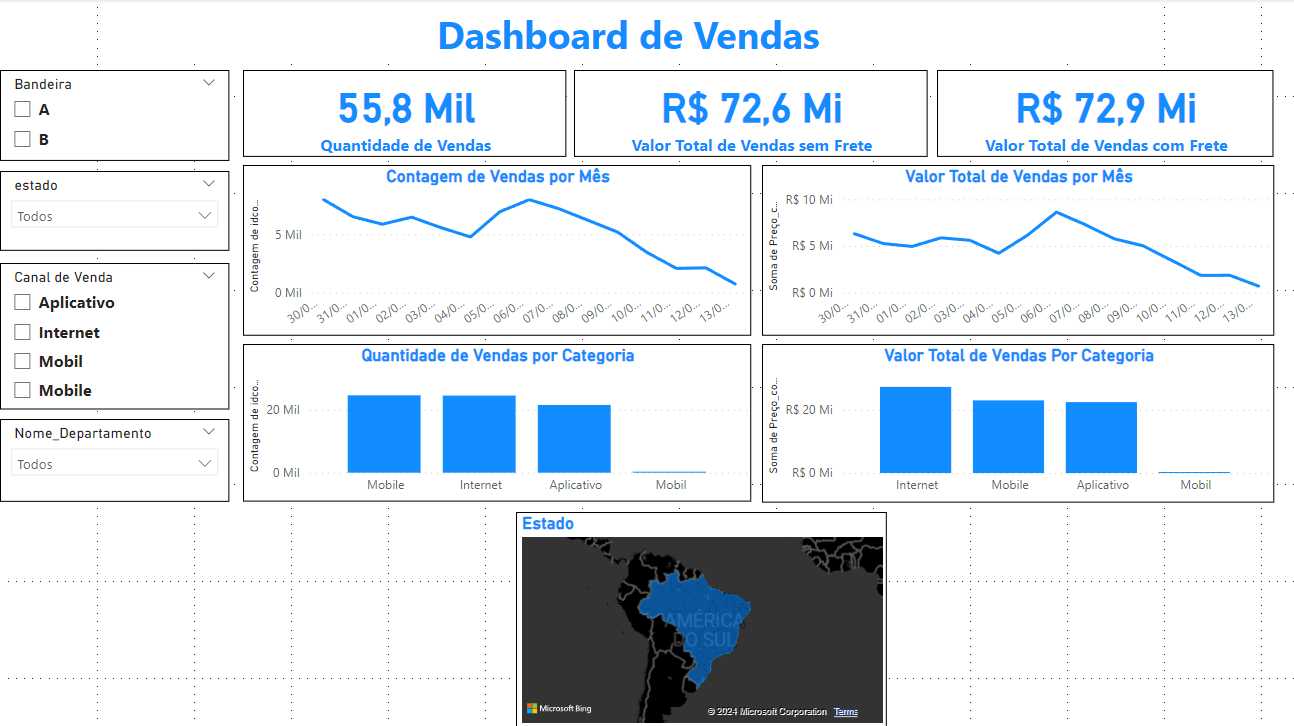

The dashboard page shown, as its layout file describes it:
{"tool":"powerbi","page":{"name":"Visão Clientes","canvas":[1280,720],"ordinal":0},"visuals":[{"type":"card","title":"Quantidade de Vendas","fields":{"Values":["Count(base compra.idcompra)"]},"box":[240,70.7,319.7,86],"z":0},{"type":"card","fields":{"Values":["Sum(base compra.Preço)"]},"box":[567.8,70.7,350.1,86],"z":1000},{"type":"card","fields":{"Values":["Sum(base compra.Preço_com_frete)"]},"box":[927.8,70.7,333.1,86],"z":2000},{"type":"lineChart","title":"Contagem de Vendas por Mês","fields":{"Y":["CountNonNull(base compra.idcompra)"],"Category":["base compra.Data"]},"box":[240.5,164.3,502.8,169.2],"z":3000},{"type":"lineChart","title":"Valor Total de Vendas por Mês","fields":{"Y":["Count(base compra.Preço_com_frete)"],"Category":["base compra.Data"]},"box":[754,164.8,506.9,169.3],"z":4000},{"type":"columnChart","title":"Valor Total de Vendas Por Categoria","fields":{"Category":["base compra.idcanalvenda"],"Y":["Sum(base compra.Preço_com_frete)"]},"box":[754,341.2,506.9,156.7],"z":5000},{"type":"columnChart","title":"Quantidade de Vendas por Categoria","fields":{"Category":["base compra.idcanalvenda"],"Y":["CountNonNull(base compra.idcanalvenda)"]},"box":[240.5,341.4,502.8,156.4],"z":6000},{"type":"slicer","fields":{"Values":["base compra.idcanalvenda"]},"box":[0,261.5,226.6,145.1],"z":7000},{"type":"slicer","fields":{"Values":["base compra.bandeira"]},"box":[0,70.3,226.6,90.1],"z":8000},{"type":"slicer","fields":{"Values":["base compra.estado"]},"box":[0,170.2,226.6,79.2],"z":9000},{"type":"slicer","fields":{"Values":["base compra.Nome_Departamento"]},"box":[0,415.5,226.6,82.4],"z":10000},{"type":"filledMap","title":"Estado","fields":{"Category":["base compra.estado"]},"box":[510.7,507.7,367.2,212.8],"z":11000},{"type":"textbox","box":[123.6,4.5,995.8,59.1],"z":12000}]}

Visuals, with their boxes in screenshot pixels (x1, y1, x2, y2), scaled from the page's 1280x720 canvas onto the 1294x726 screenshot:
"Quantidade de Vendas" card: 243, 71, 566, 158
card - Sum(base compra.Preço): 574, 71, 928, 158
card - Sum(base compra.Preço_com_frete): 938, 71, 1275, 158
"Contagem de Vendas por Mês" lineChart: 243, 166, 751, 336
"Valor Total de Vendas por Mês" lineChart: 762, 166, 1275, 337
"Valor Total de Vendas Por Categoria" columnChart: 762, 344, 1275, 502
"Quantidade de Vendas por Categoria" columnChart: 243, 344, 751, 502
slicer - base compra.idcanalvenda: 0, 264, 229, 410
slicer - base compra.bandeira: 0, 71, 229, 162
slicer - base compra.estado: 0, 172, 229, 251
slicer - base compra.Nome_Departamento: 0, 419, 229, 502
"Estado" filledMap: 516, 512, 888, 725
textbox: 125, 5, 1132, 64
